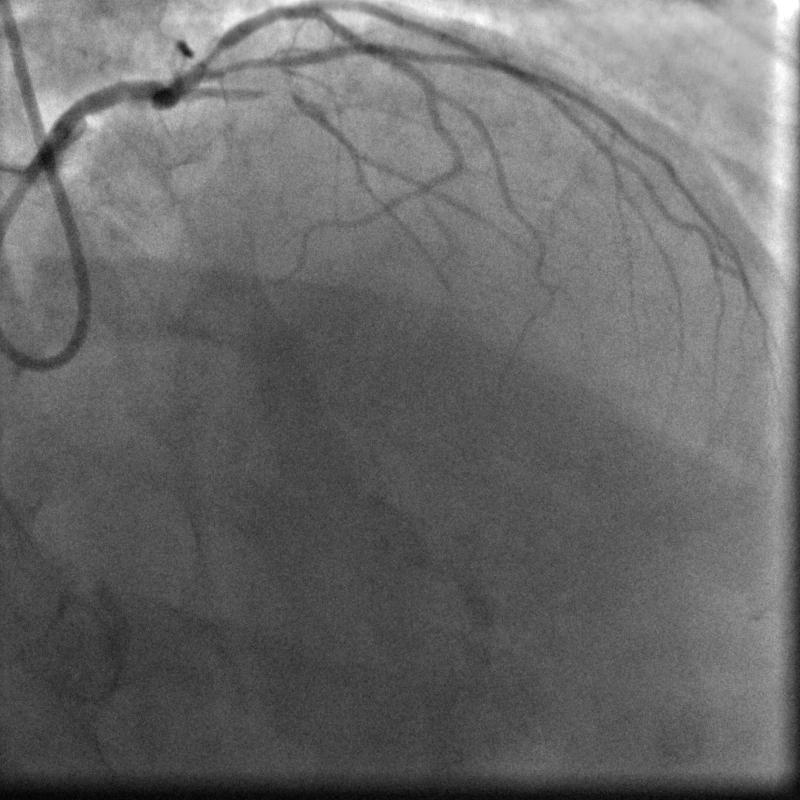Stenosis: (188, 42, 236, 69)
